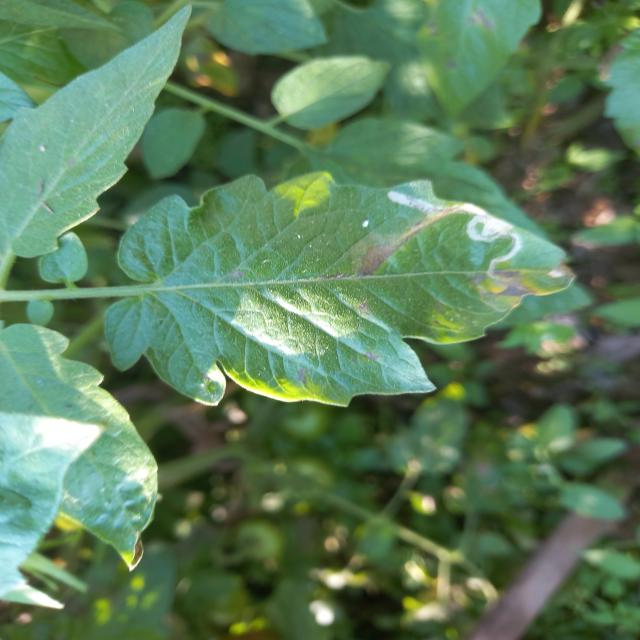Tuta absoluta: (386, 154, 529, 280)
